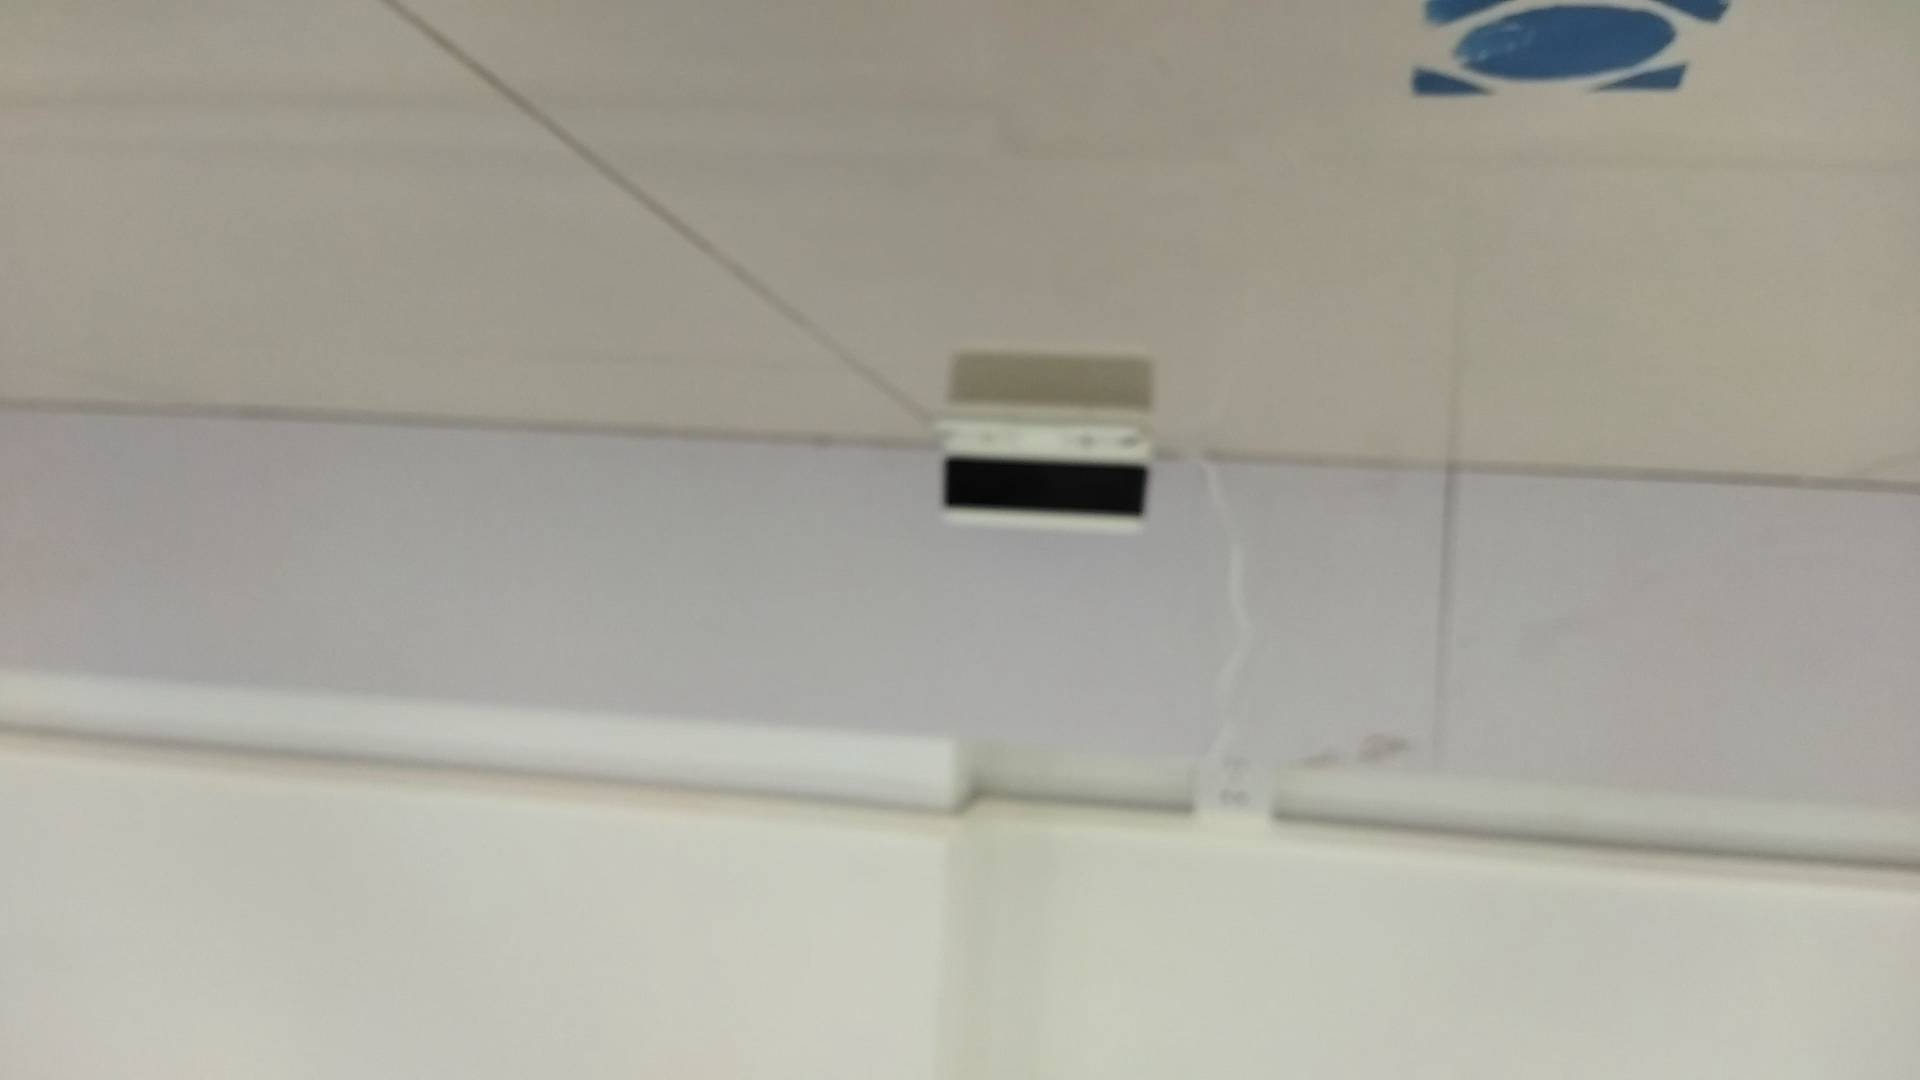recharge seat: (927, 397, 1160, 531)
